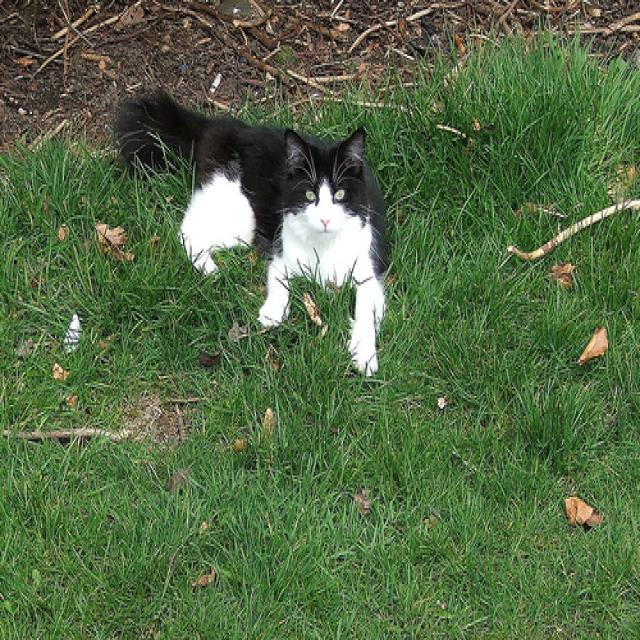left eye: (331, 185, 347, 202)
